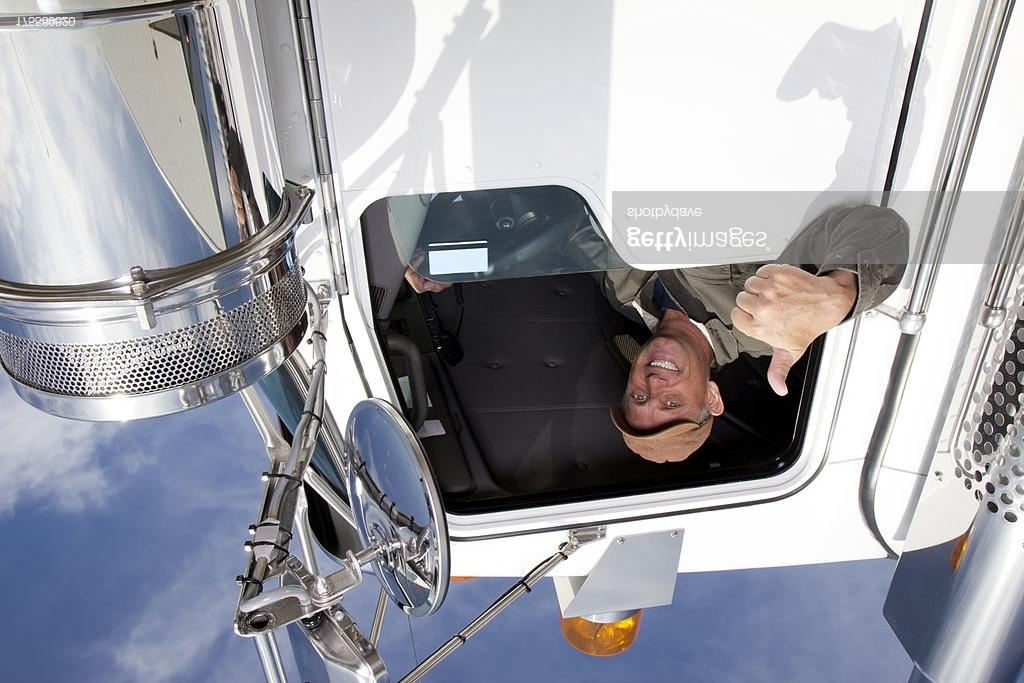thumbsdown: (730, 262, 799, 397)
